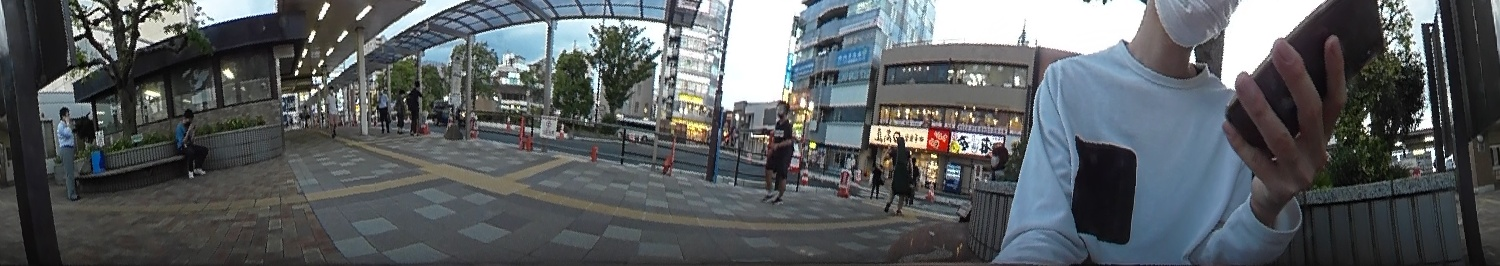difficult_person: (402, 78, 425, 135), (323, 84, 342, 137), (905, 154, 922, 206), (374, 87, 392, 130), (866, 158, 884, 201), (391, 88, 407, 136)
person: (946, 138, 1014, 218), (760, 98, 794, 203), (55, 104, 86, 202), (171, 105, 210, 180), (883, 134, 911, 212)
